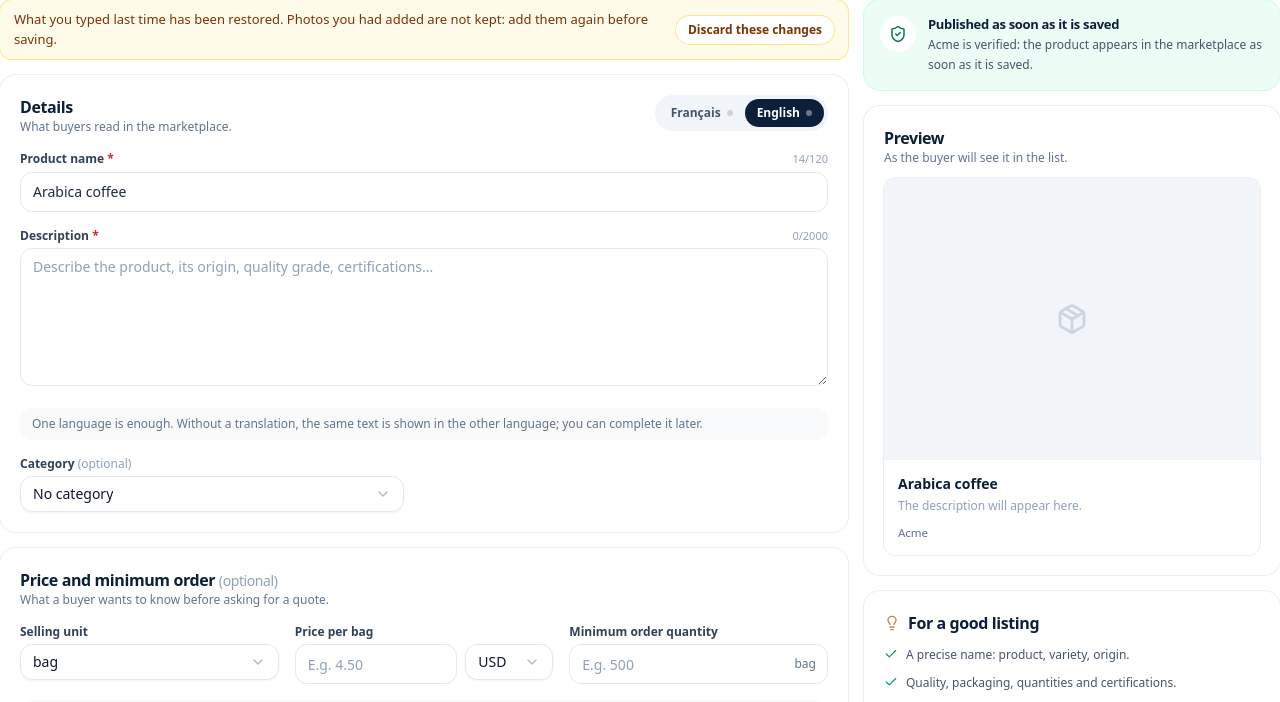
Test: ProductForm draft › discarding empties the form and removes the draft
The image size is (1280, 702).
Click the button "Discard these changes".
click(755, 30)  # box top-left (676, 16), bottom-right (834, 44)
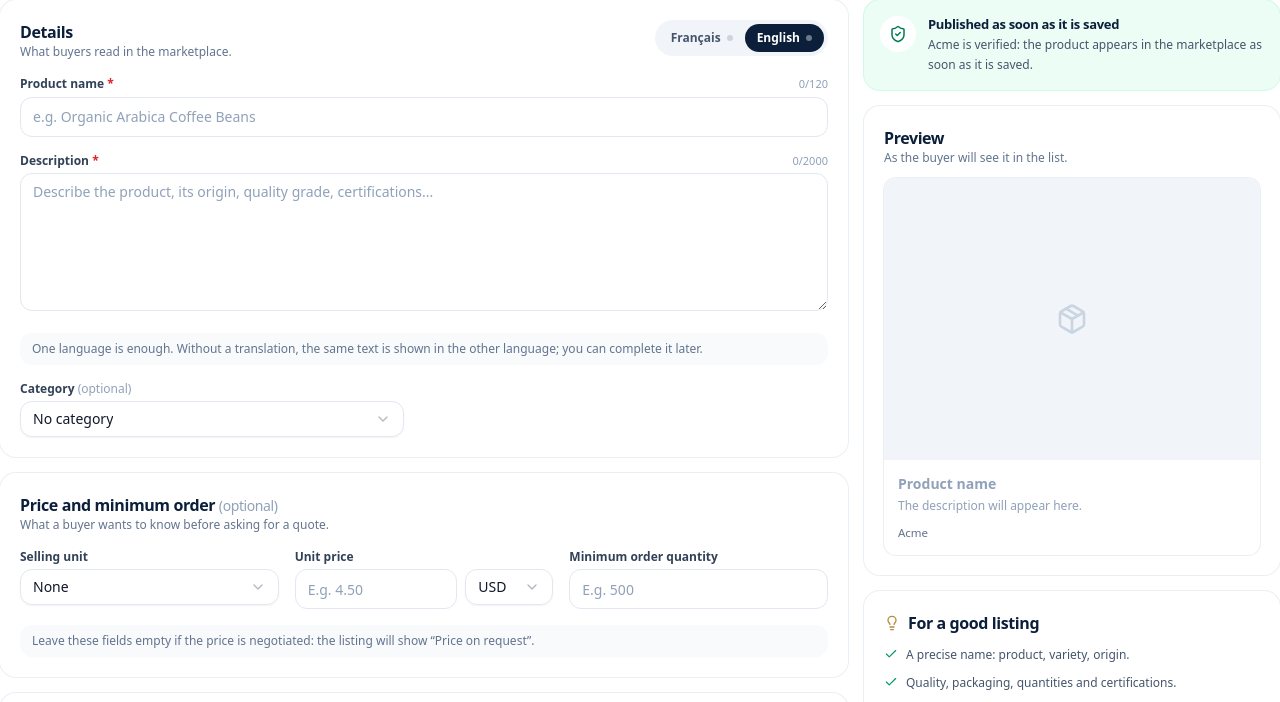
Expected: the text "What you typed last time has been restored. Photos you had added are not kept: add them again before saving." is gone
